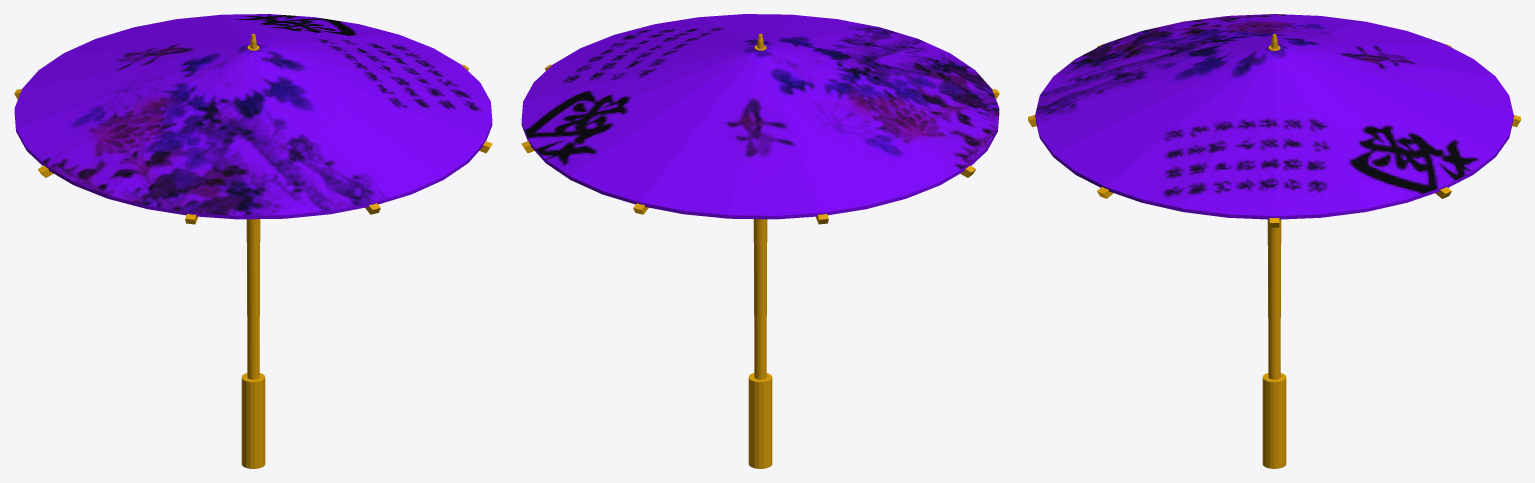
3 views of the same model, side by side, from view 1: azimuth 30°, elevation 25°; view 2: azimuth 150°, elevation 25°; view 3: azimuth 270°, elevation 25° (orthographic).
Visible parts, largest first — view 1: 柱体, 柱体.001; view 2: 柱体, 柱体.001; view 3: 柱体, 柱体.001.
Part boxes in pixels (x1,y1,x2,y2): 柱体: (14,14,492,219); 柱体.001: (14,34,492,468); 柱体: (521,14,999,219); 柱体.001: (521,34,999,468); 柱体: (1035,14,1513,219); 柱体.001: (1028,34,1520,468).
Bounding box in the file's own units: 2.06 × 1.98 × 2.06.
2 materials, 1 textured.
